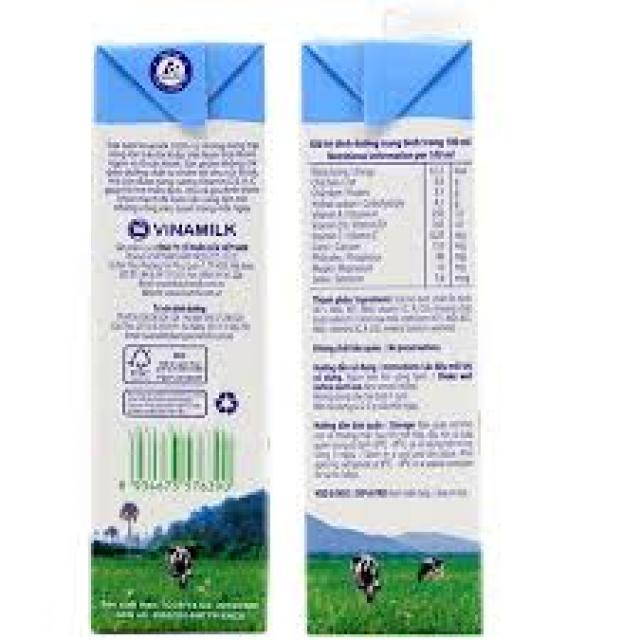non_white_jug: (273, 19, 509, 630), (55, 30, 288, 627)
